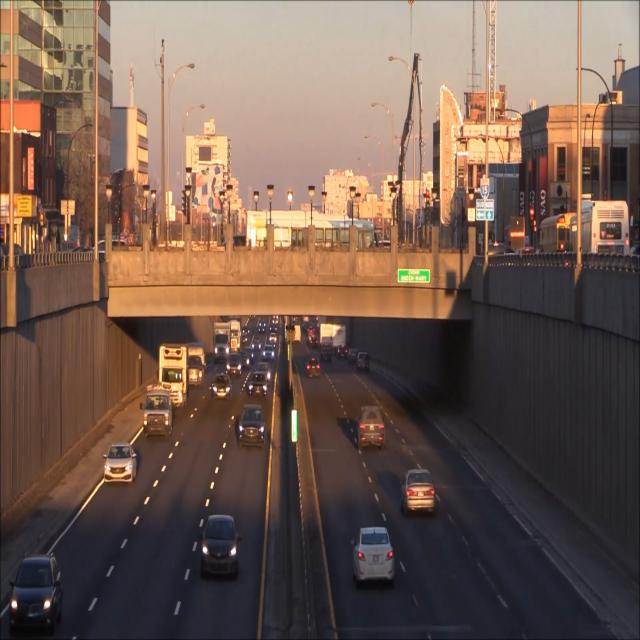Car: (351, 524, 396, 590), (200, 514, 242, 582), (159, 342, 189, 408), (399, 468, 438, 516), (102, 440, 139, 490), (141, 386, 173, 440), (356, 404, 387, 457), (237, 407, 267, 452), (187, 341, 207, 386), (212, 371, 233, 402), (248, 370, 268, 400), (304, 358, 323, 380), (226, 352, 243, 376), (356, 352, 370, 374)
